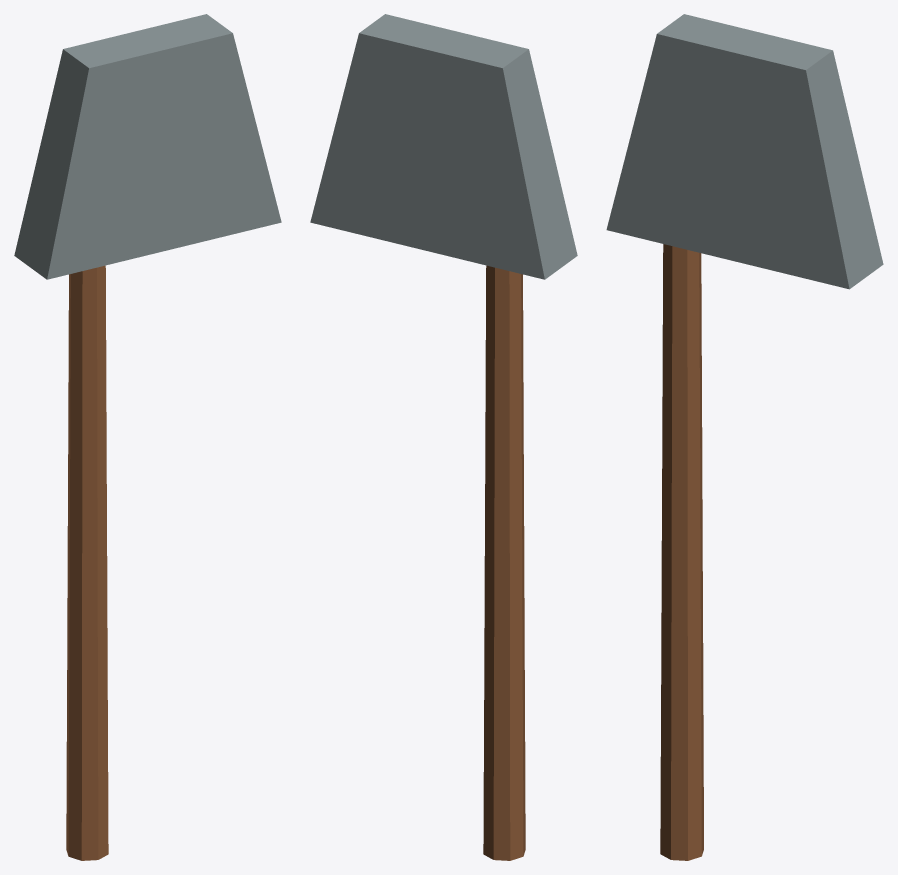
Rendered from wk_prop_axe_v01.glb.
3 views of the same model, side by side, from view 1: azimuth 30°, elevation 25°; view 2: azimuth 150°, elevation 25°; view 3: azimuth 330°, elevation 25° (orthographic). The views are drawn at different scales.
Visible parts, largest first — view 1: GEO_AxeHead, GEO_axe_Shaft; view 2: GEO_AxeHead, GEO_axe_Shaft; view 3: GEO_AxeHead, GEO_axe_Shaft.
Part boxes in pixels (x1,y1,x2,y2): GEO_AxeHead: (14,14,281,279); GEO_axe_Shaft: (66,265,108,860); GEO_AxeHead: (310,14,577,279); GEO_axe_Shaft: (483,265,525,860); GEO_AxeHead: (606,14,883,289); GEO_axe_Shaft: (660,244,703,860).
Bounding box in the file's own units: 0.31 × 1.01 × 0.075.
